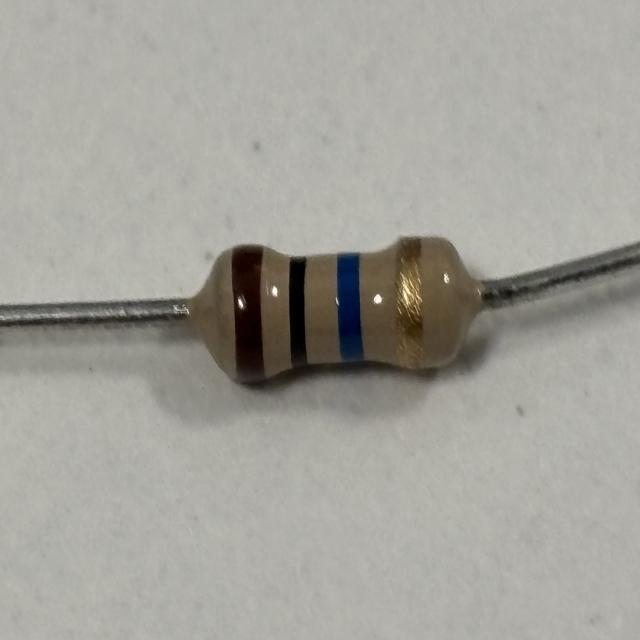resistor: (215, 232, 456, 390)
